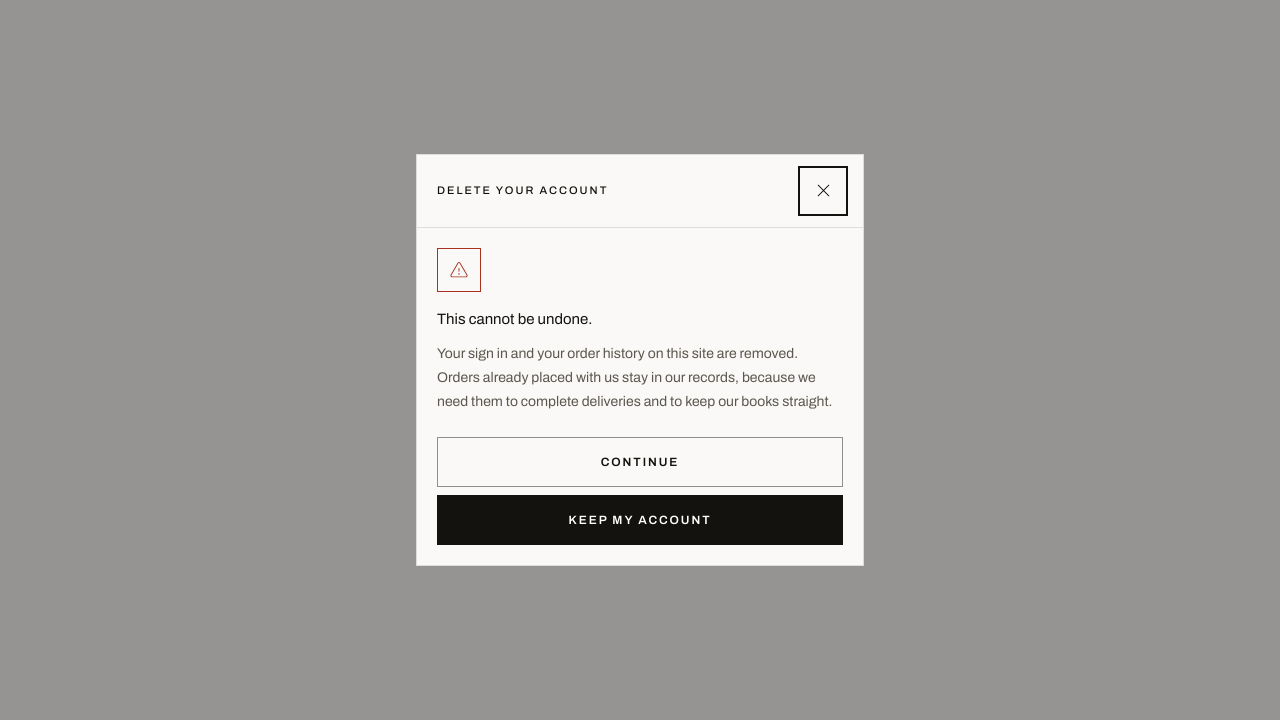
it: DeleteAccountModal › surfaces the API error and does not sign the user out
This screenshot has width=1280, height=720.
Click the button "Continue" at coordinates (640, 462), box [437,437,843,487]
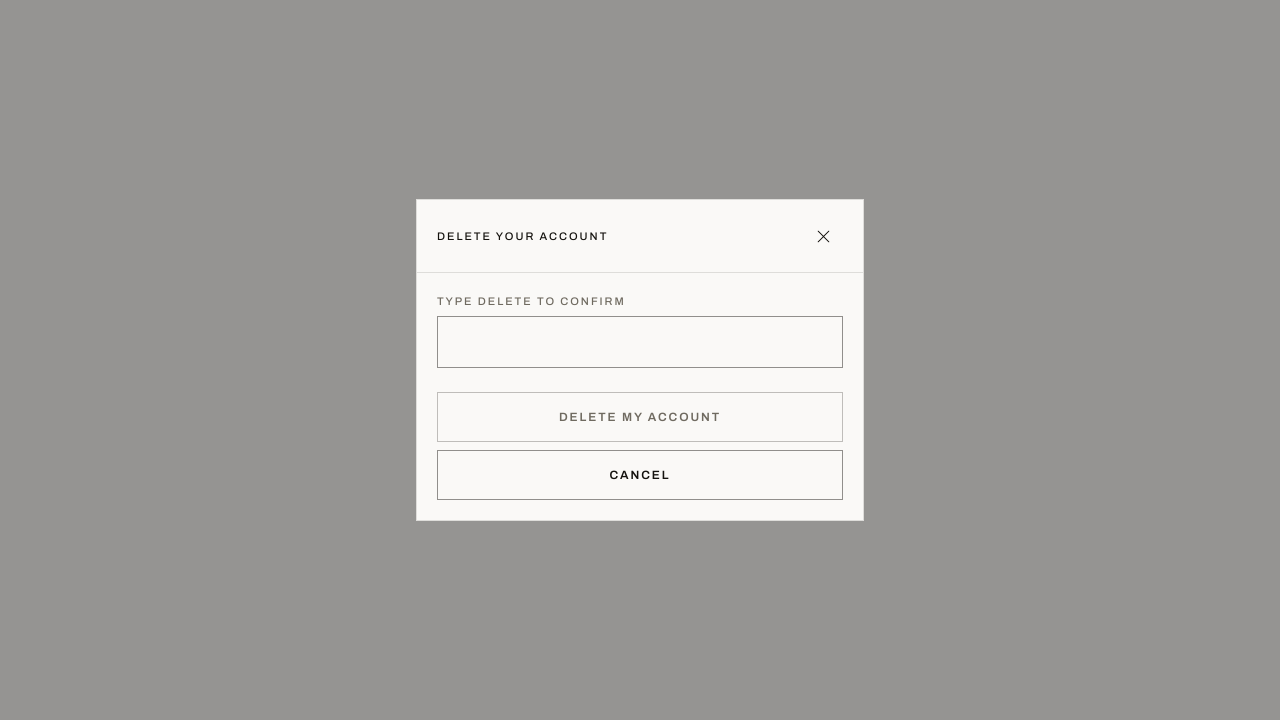
Type "DELETE" into the field labelled "Type DELETE to confirm" at coordinates (640, 342), box [437,316,843,368]
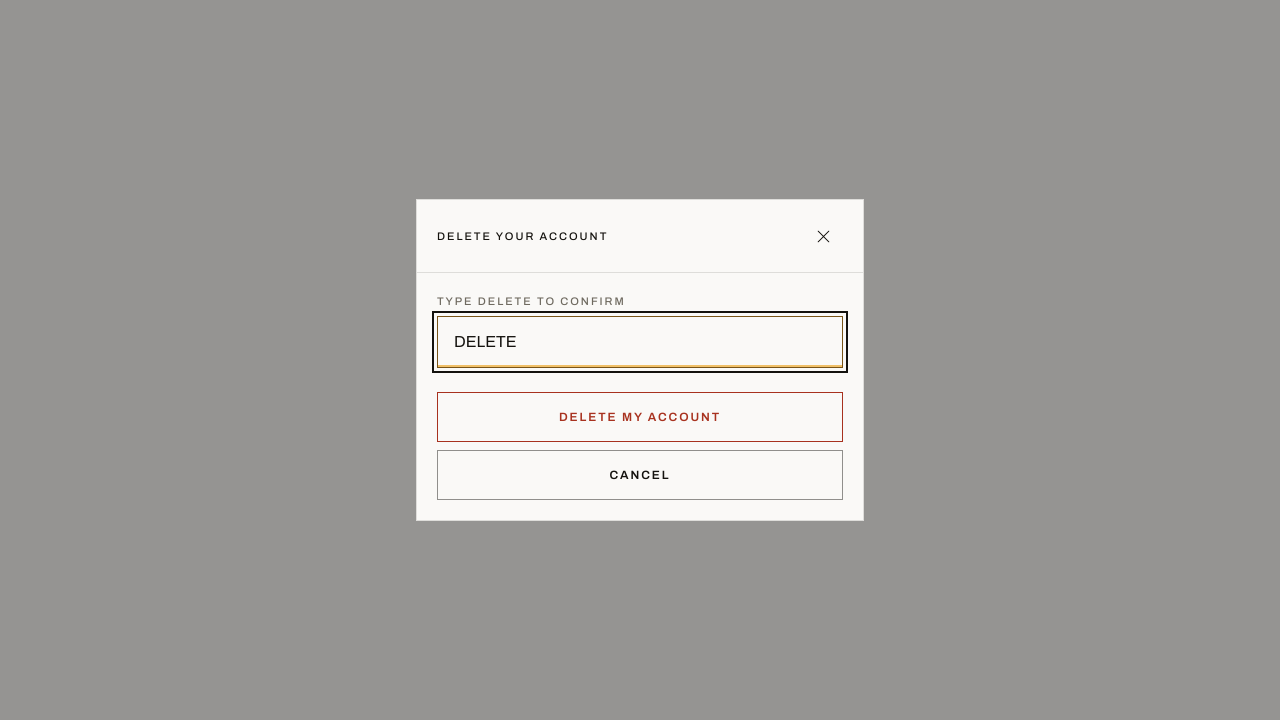
Click the button "Delete my account" at coordinates (640, 417), box [437,392,843,442]
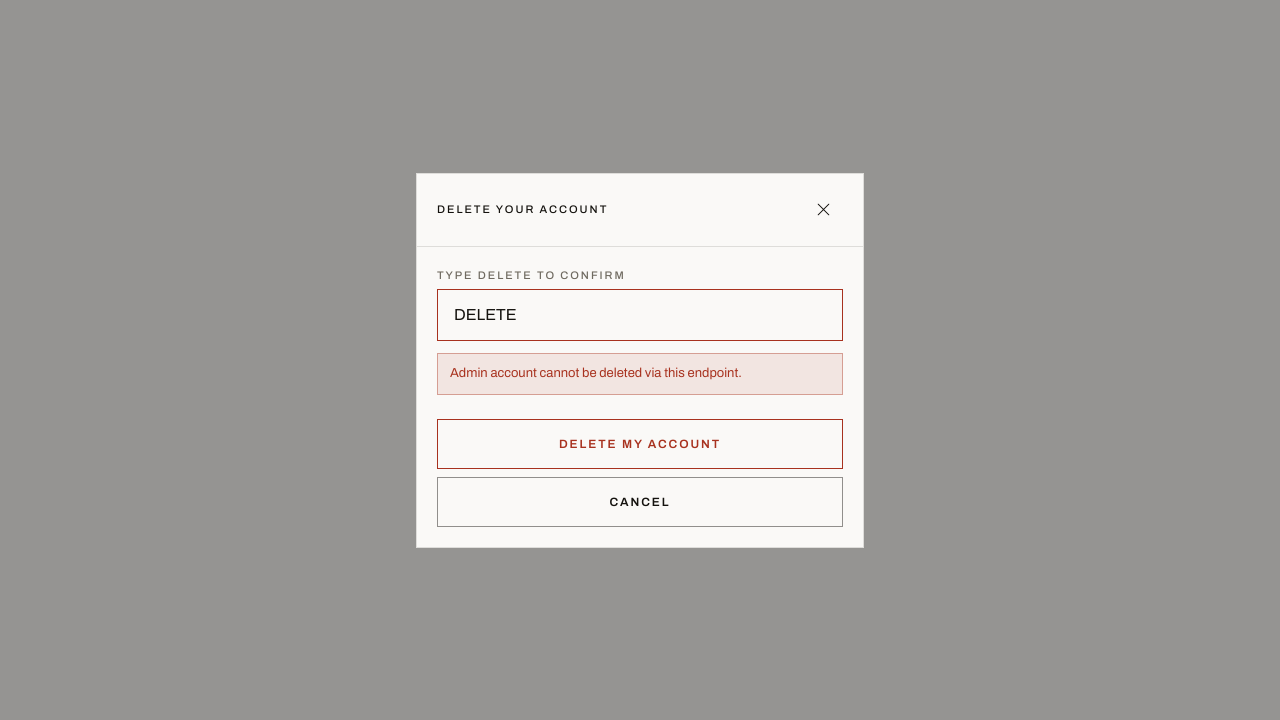
Now the message reads "Admin account cannot be deleted via this endpoint.", box [450,366,742,380]
